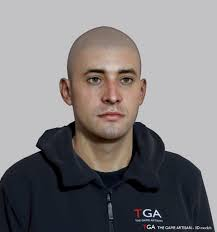white_male: (66, 49, 146, 134)
